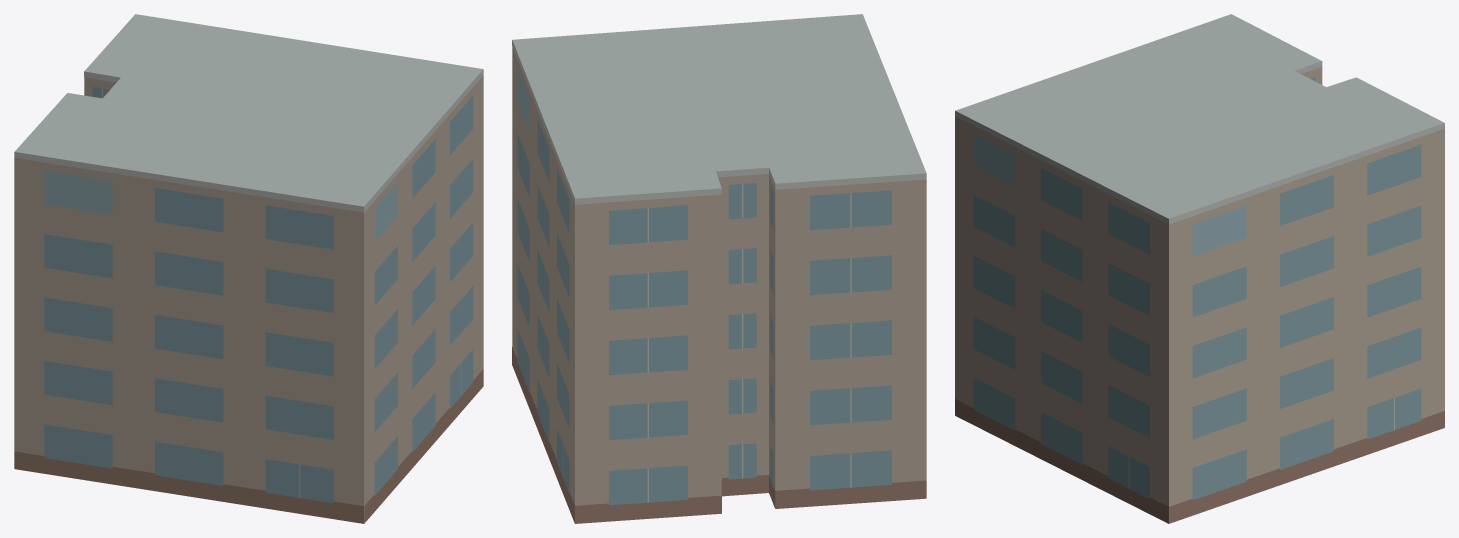
Rendered from survey-upis-33010445.glb.
The picture shows the model from 3 angles, left to right: view 1: azimuth 30°, elevation 25°; view 2: azimuth 150°, elevation 25°; view 3: azimuth 270°, elevation 25°; orthographic projection. The views are drawn at different scales.
Parts seen in each view (by area): view 1: survey-upis-33010445.tmp; view 2: survey-upis-33010445.tmp; view 3: survey-upis-33010445.tmp.
Boxes of the visible parts, x1,y1,x2,y2 form: survey-upis-33010445.tmp: (14,14,483,523); survey-upis-33010445.tmp: (512,14,926,523); survey-upis-33010445.tmp: (955,14,1444,523).
Bounding box in the file's own units: 18.74 × 13 × 18.93.
